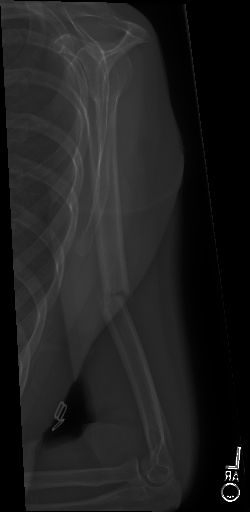fracture: (88, 276, 139, 336)
